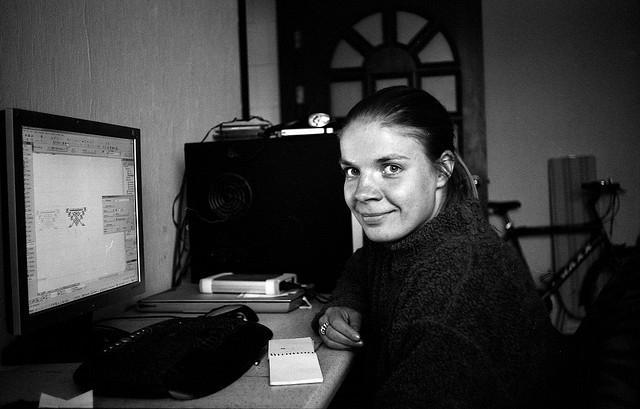bicycle: (484, 184, 638, 324)
